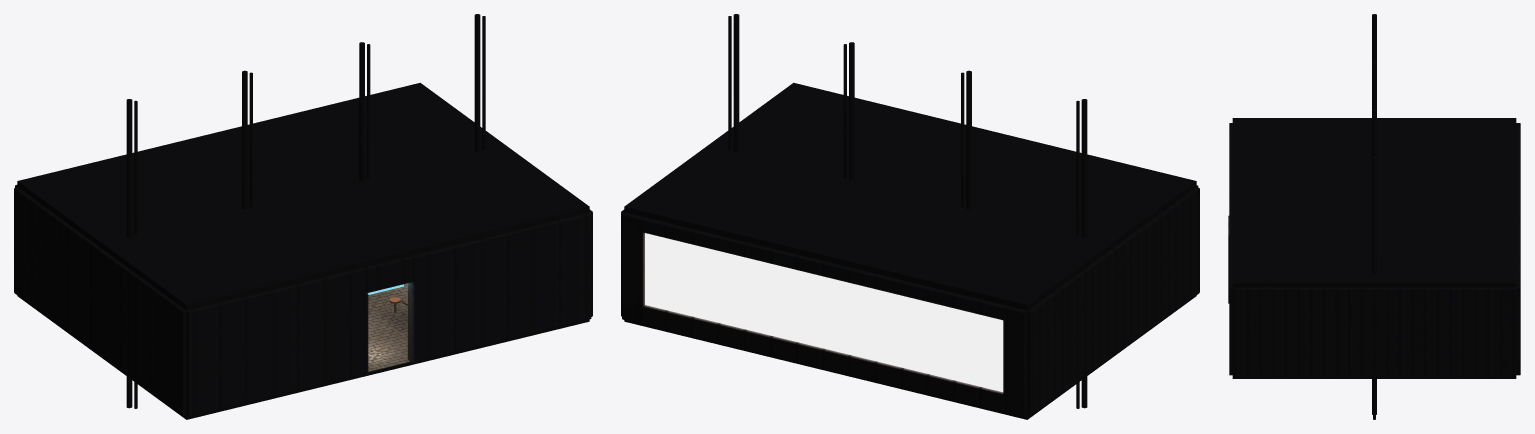
Rendered from cantina.glb.
3 renders of one model, left to right at view 1: azimuth 30°, elevation 25°; view 2: azimuth 150°, elevation 25°; view 3: azimuth 270°, elevation 25°, orthographic. The views are drawn at different scales.
Parts seen in each view (by area): view 1: Shell; view 2: Shell, WindowGlass; view 3: Shell.
Part boxes in pixels (bbox=[...]): Shell: bbox=[14, 14, 592, 419]; Shell: bbox=[621, 14, 1199, 419]; WindowGlass: bbox=[645, 233, 1003, 392]; Shell: bbox=[1228, 14, 1520, 419].
Bounding box in the file's own units: 22.4 × 16.15 × 16.5.
Materials: 8 (2 with a texture image).
